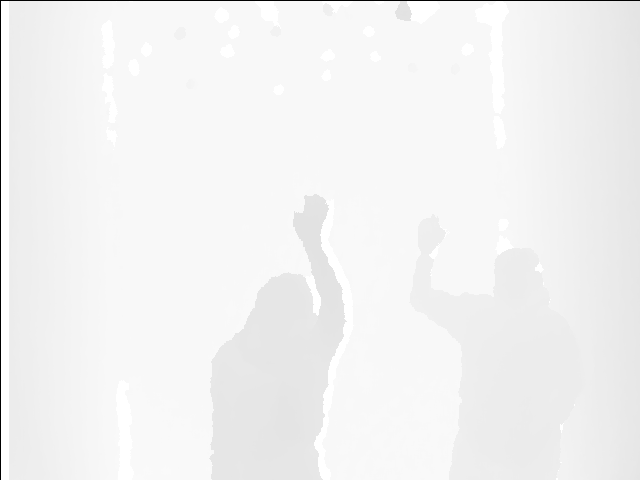hand: (294, 195, 331, 245), (415, 209, 447, 258)
